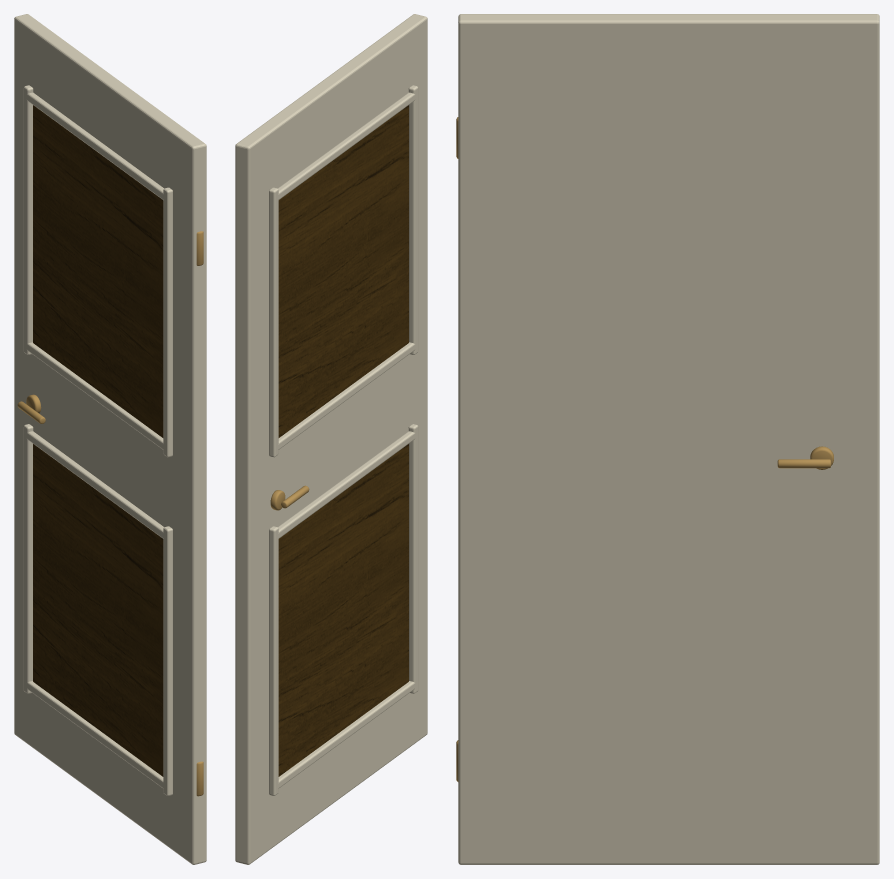
File: SM_DoorLeaf.glb
3 views of the same model, side by side, from view 1: azimuth 30°, elevation 25°; view 2: azimuth 150°, elevation 25°; view 3: azimuth 270°, elevation 25° (orthographic). The views are drawn at different scales.
Parts seen in each view (by area): view 1: SM_DoorLeaf; view 2: SM_DoorLeaf; view 3: SM_DoorLeaf.
Boxes of the visible parts, x1,y1,x2,y2 form: SM_DoorLeaf: (14,14,206,864); SM_DoorLeaf: (235,14,427,864); SM_DoorLeaf: (456,14,879,864).
Bounding box in the file's own units: 0.15 × 2.1 × 0.955.
Materials: 3 (1 with a texture image).
